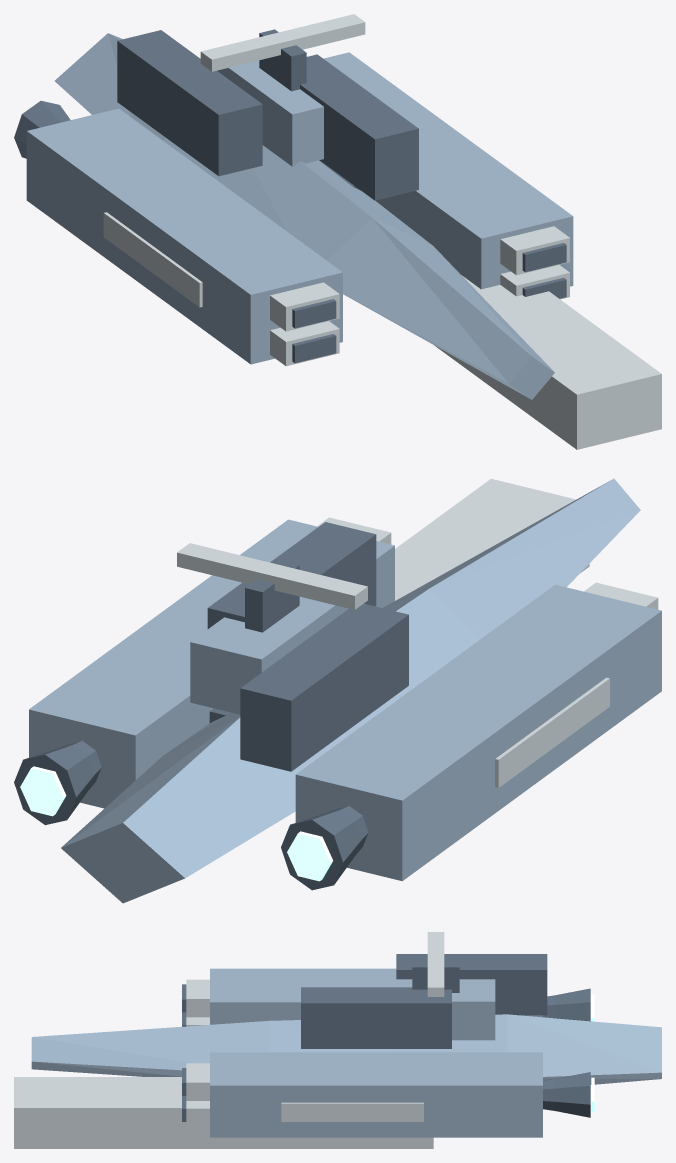
3 renders of one model, top to bottom at view 1: azimuth 30°, elevation 25°; view 2: azimuth 150°, elevation 25°; view 3: azimuth 270°, elevation 25°, orthographic. The views are drawn at different scales.
Size of the model in its own units: 4.48 by 2.71 by 10.3.
